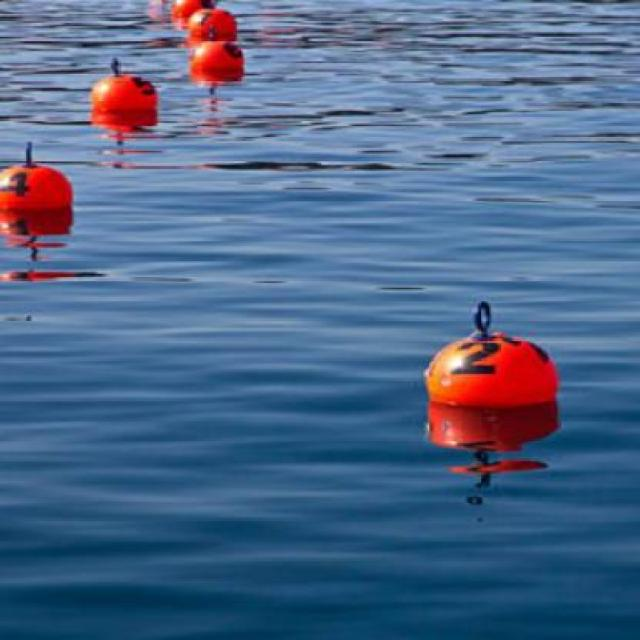a: (432, 294, 584, 420), (170, 36, 264, 122), (1, 143, 84, 230), (82, 56, 166, 129)
